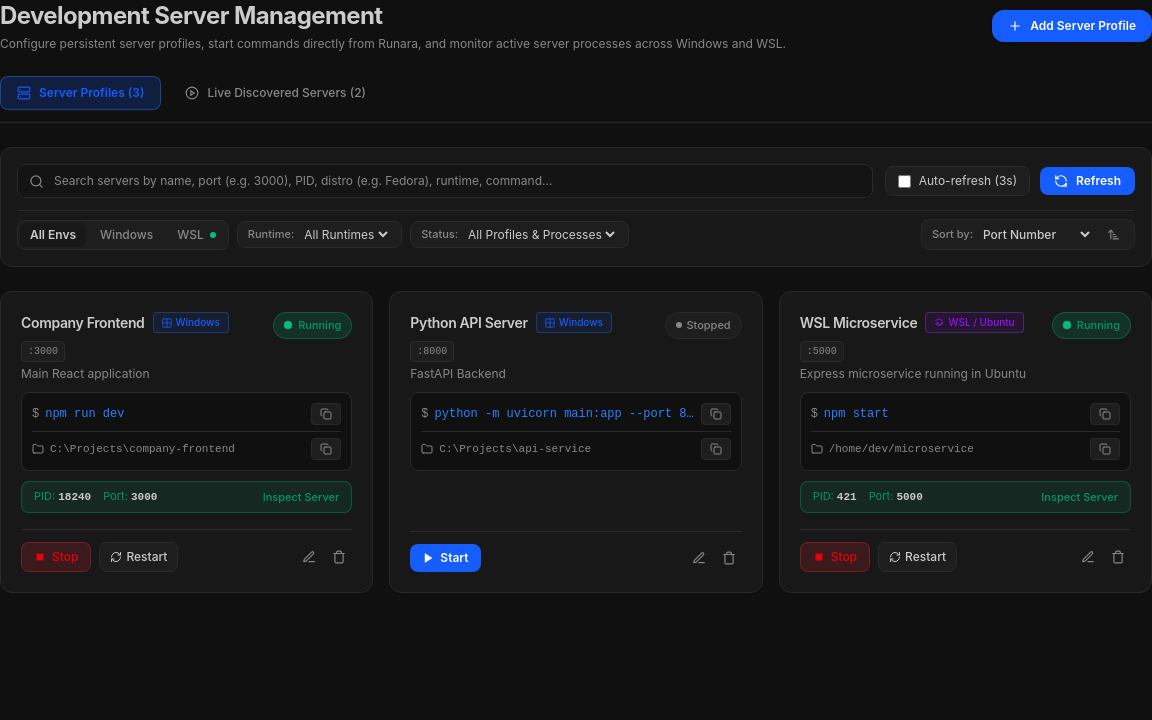
it: Servers & Profiles Management (Milestone 7) › shows warning in Delete Modal when deleting a running profile without terminating process
expect the heading "Company Frontend" is shown: met, box [21,312,144,332]
Click the button titled "Delete Profile" below "18240" at (339, 556), box [326,544,352,570]
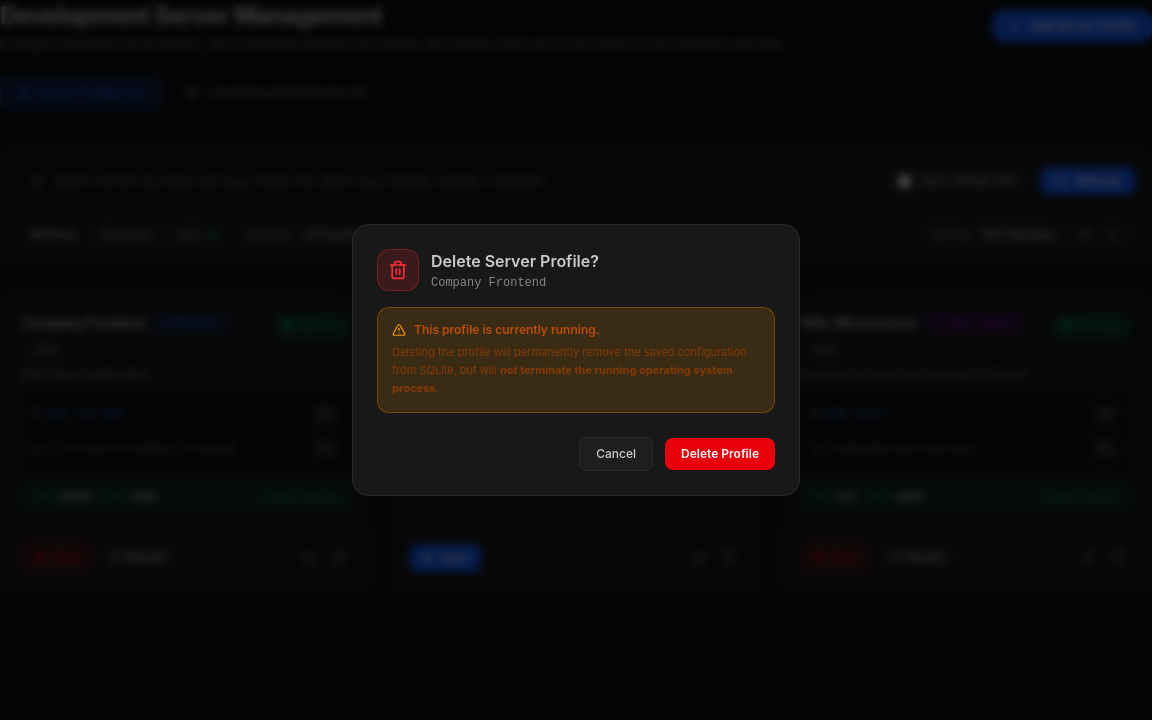
expect the heading "Delete Server Profile?" is shown: met, box [431,249,599,273]
expect the text "This profile is currently running." is shown: met, box [414,322,600,338]
expect the text "remove the saved configuration from SQLite" is shown: met, box [392,345,747,377]
Click the button "Delete Profile" at (720, 454), box [665,438,775,470]
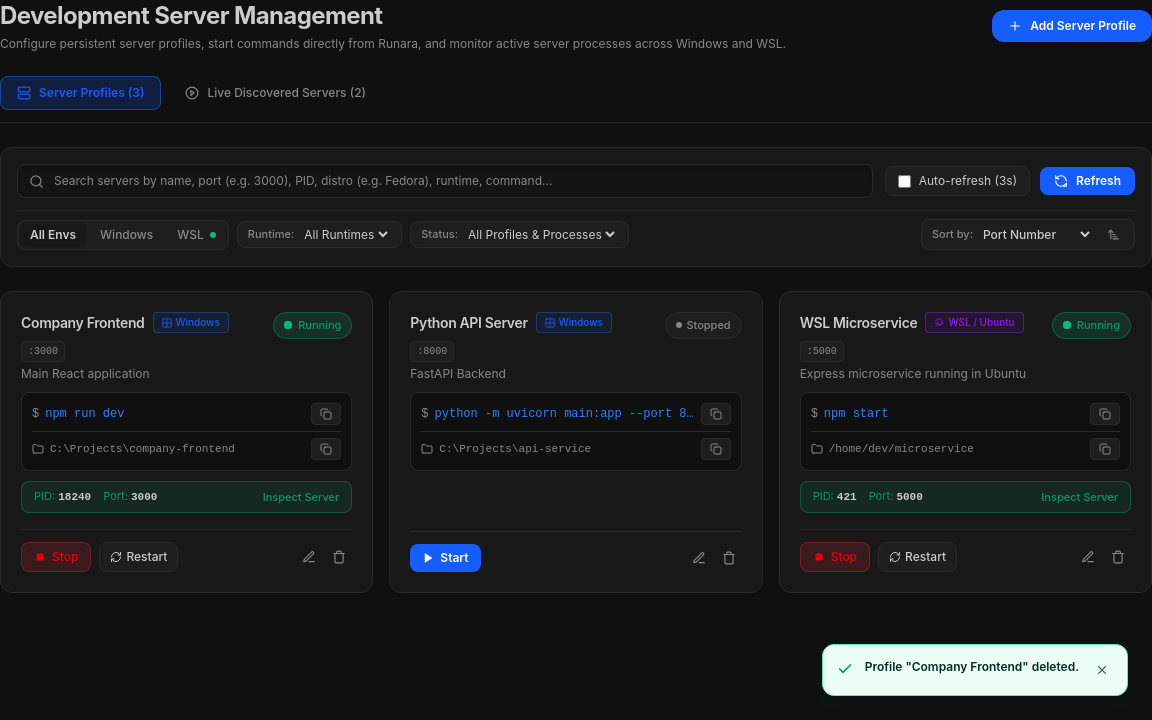
expect the text "Profile \"Company Frontend\" deleted." is shown: met, box [865,659,1079,676]
